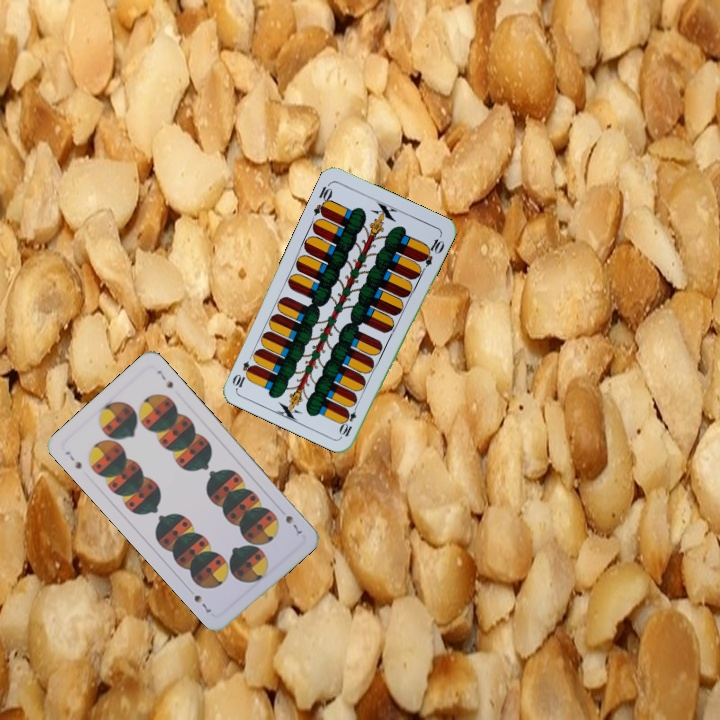E10: (309, 179, 335, 219), (337, 399, 361, 439)
S7: (281, 511, 305, 537), (61, 447, 84, 472)
